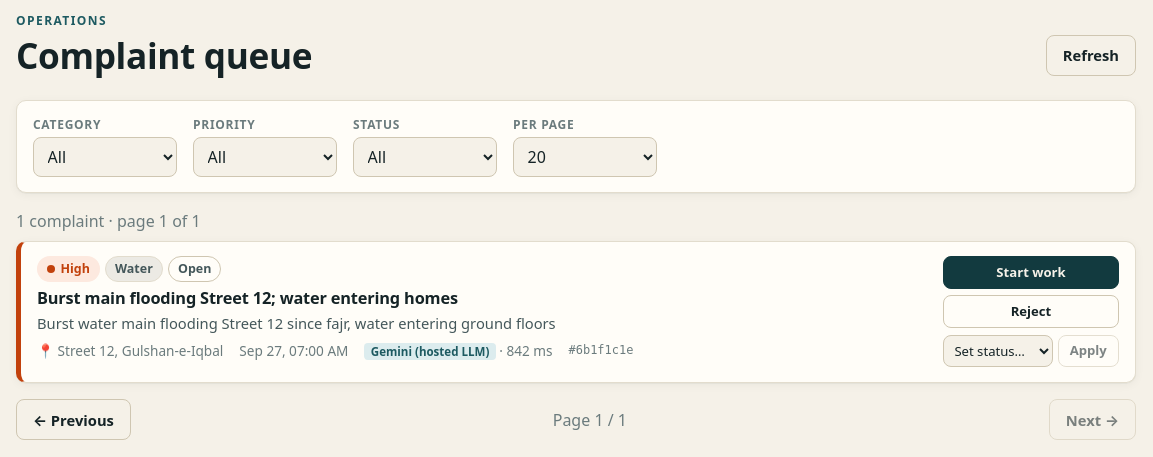
it: DashboardPage › sends filters as query parameters and resets to page 1
Expected: the text "1 complaint · page 1 of 1" is shown, [16,210,201,232]
Select "High" in the dropdown labelled "Priority" at point(265, 157), box [193,137,337,177]
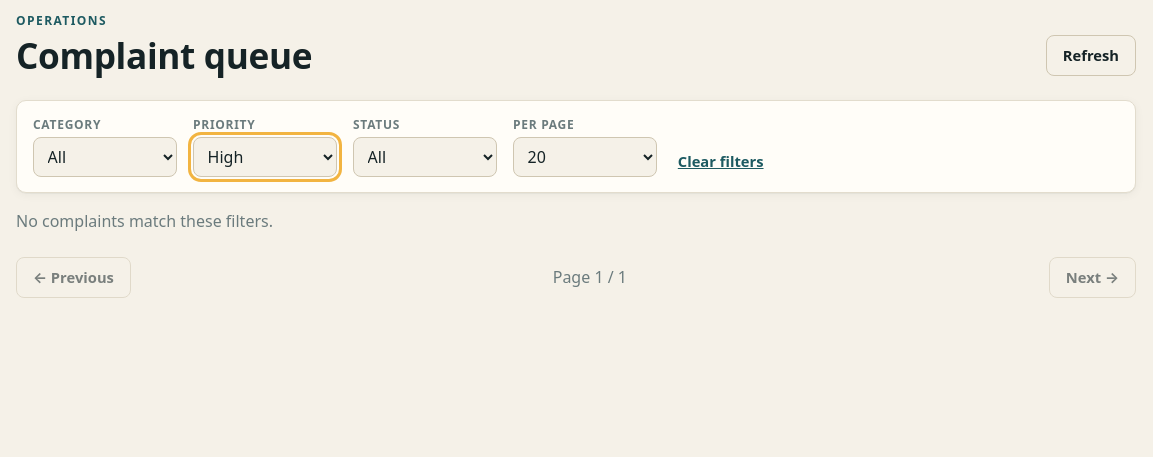
Now the text "No complaints match these filters." is shown, box [16,210,273,232]
